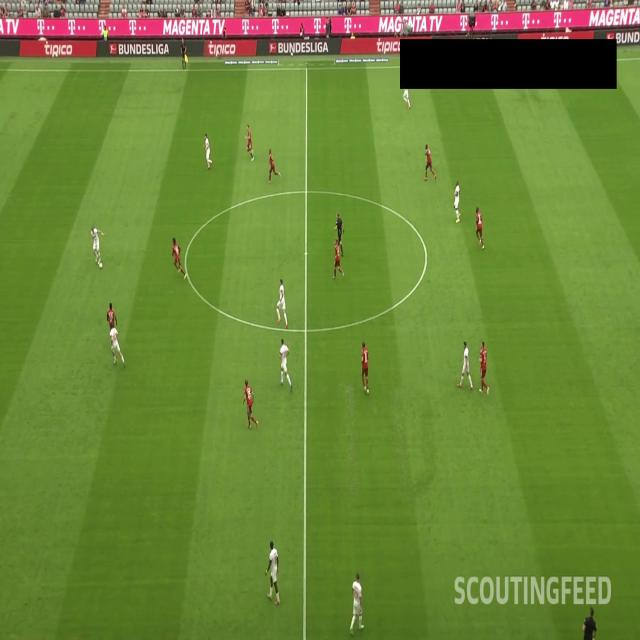ball: (97, 258, 104, 275)
player: (262, 537, 281, 604), (346, 571, 366, 633), (240, 378, 260, 432), (456, 337, 474, 391), (277, 334, 292, 394), (476, 339, 492, 395), (110, 322, 127, 369), (169, 235, 187, 278), (274, 276, 288, 329), (358, 339, 371, 396), (266, 147, 283, 187), (88, 221, 102, 267), (201, 121, 213, 171), (473, 205, 486, 250), (332, 240, 345, 284), (421, 141, 434, 182), (108, 299, 118, 351), (452, 178, 462, 224), (398, 76, 411, 110), (246, 122, 255, 162)
referee: (330, 206, 346, 257), (579, 603, 599, 640), (180, 36, 188, 70)
